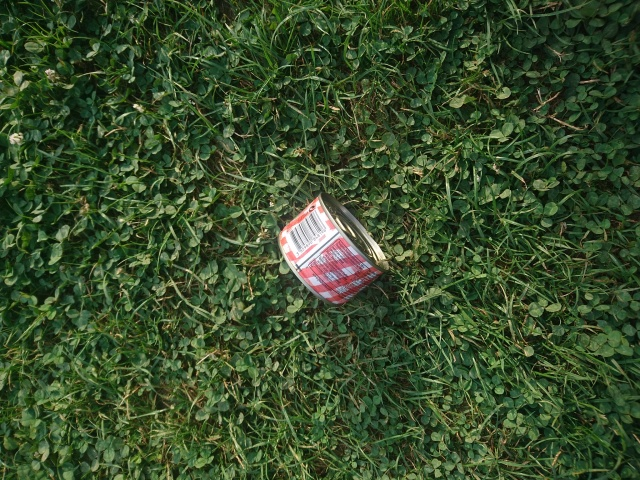Podravka Luncheon Meat 150g: (274, 188, 392, 310)
